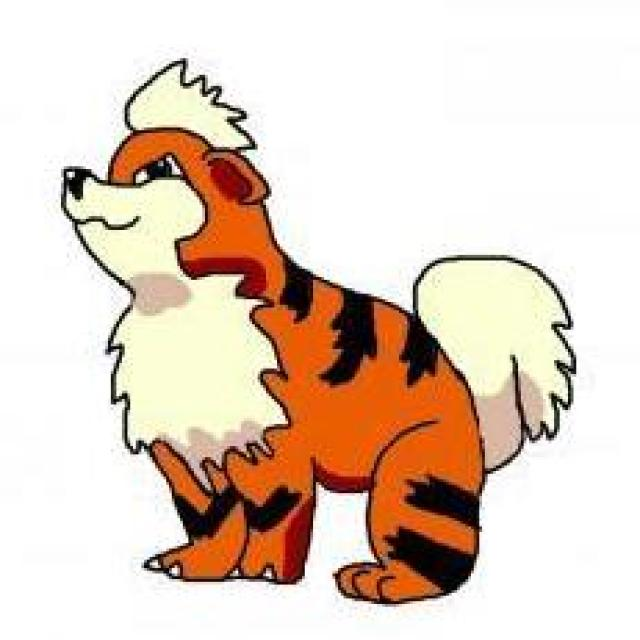Growlithe: (58, 101, 522, 547)
